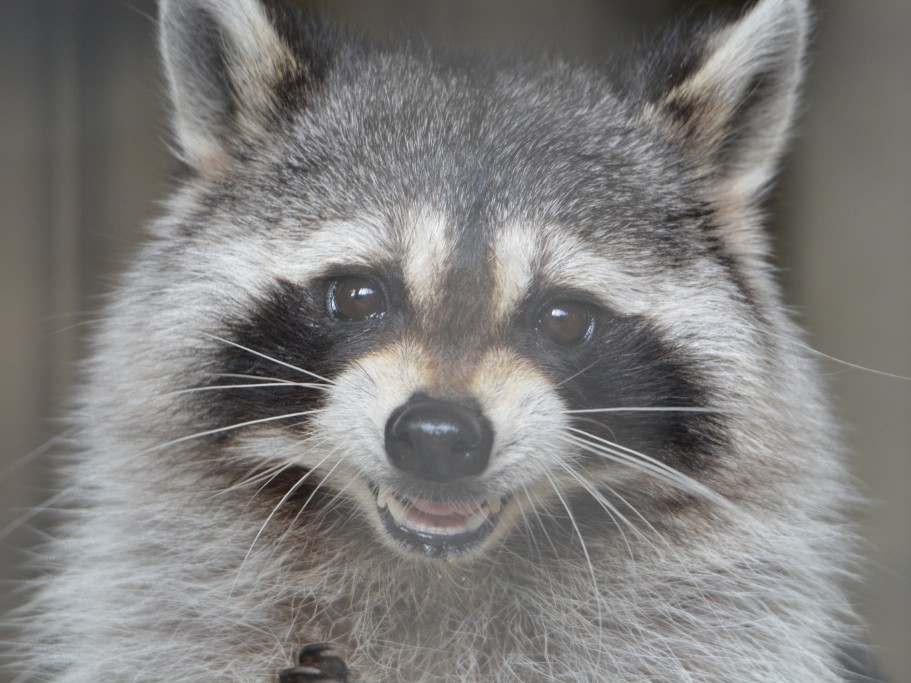raccoon: (74, 2, 845, 682)
